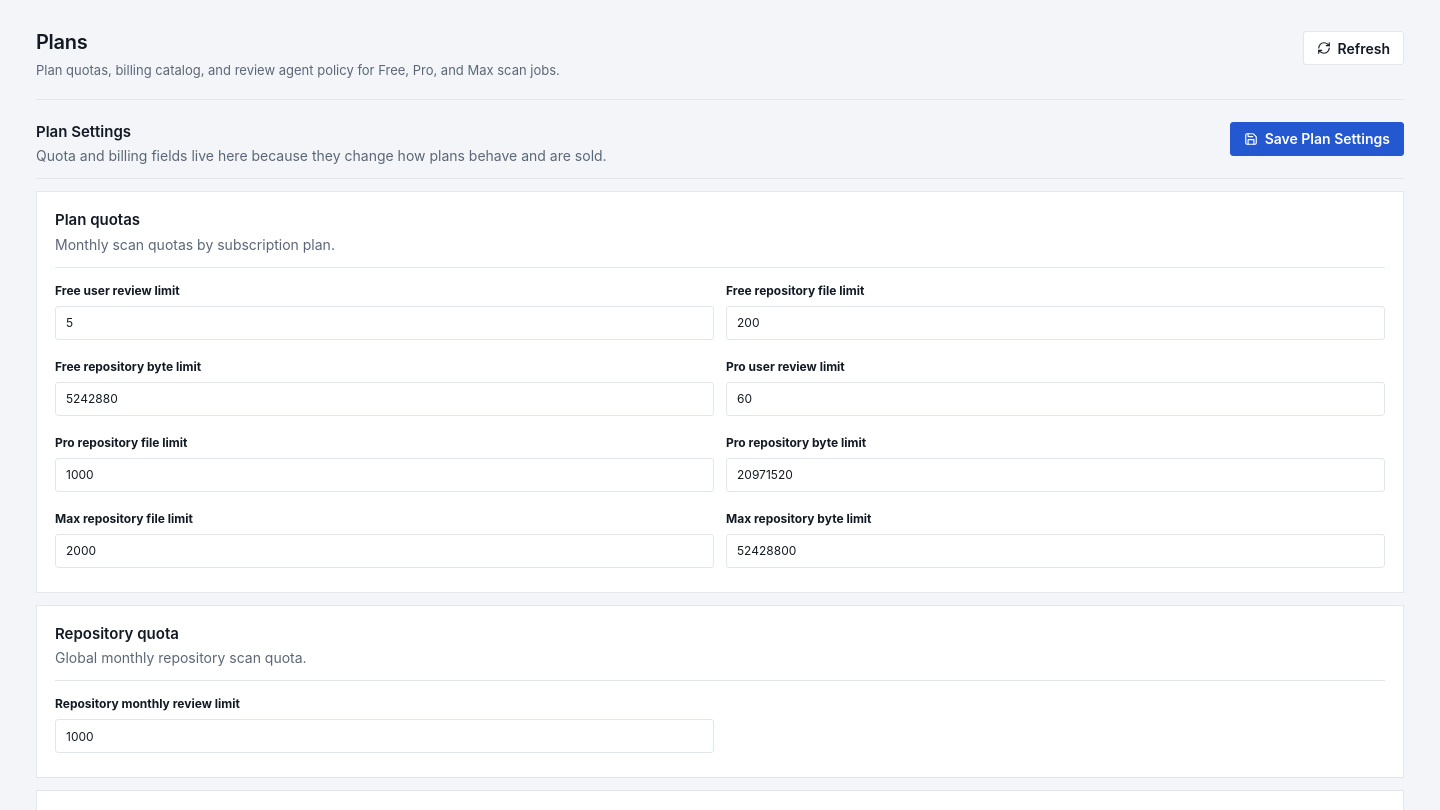
Scenario: PlansScreen › shows plan quotas and billing catalog from system config and saves them
The width and height of the screenshot is (1440, 810).
Check: the heading "Plan Settings" is shown, box [36,122,131,140]
Check: the heading "Plan quotas" is shown, box [55,210,140,229]
Replace the text in the number field labelled "Pro user review limit" with "75": (1056, 398) [726,382,1385,416]
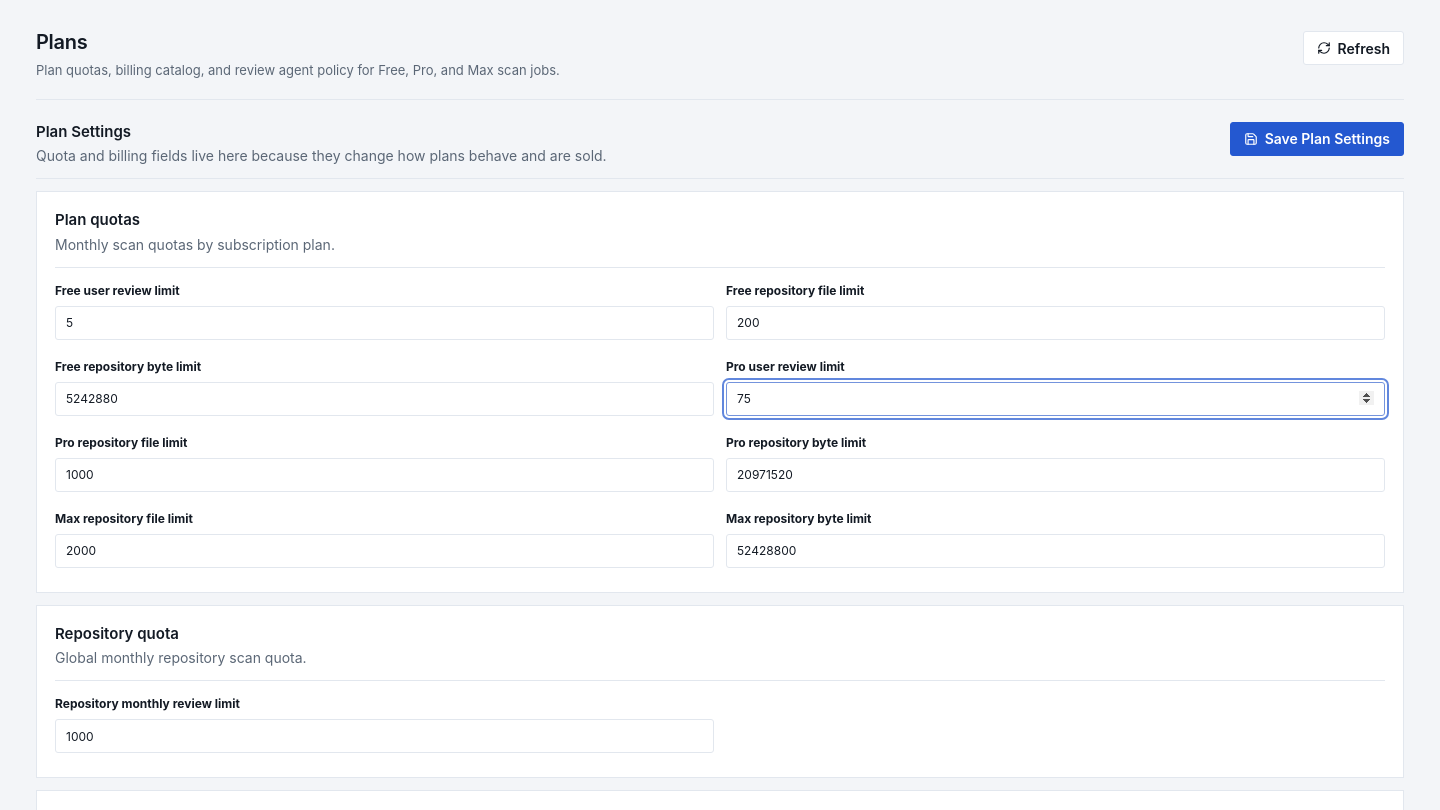
Replace the text in the number field labelled "Pro repository file limit" with "1200": (384, 474) [55,458,714,492]
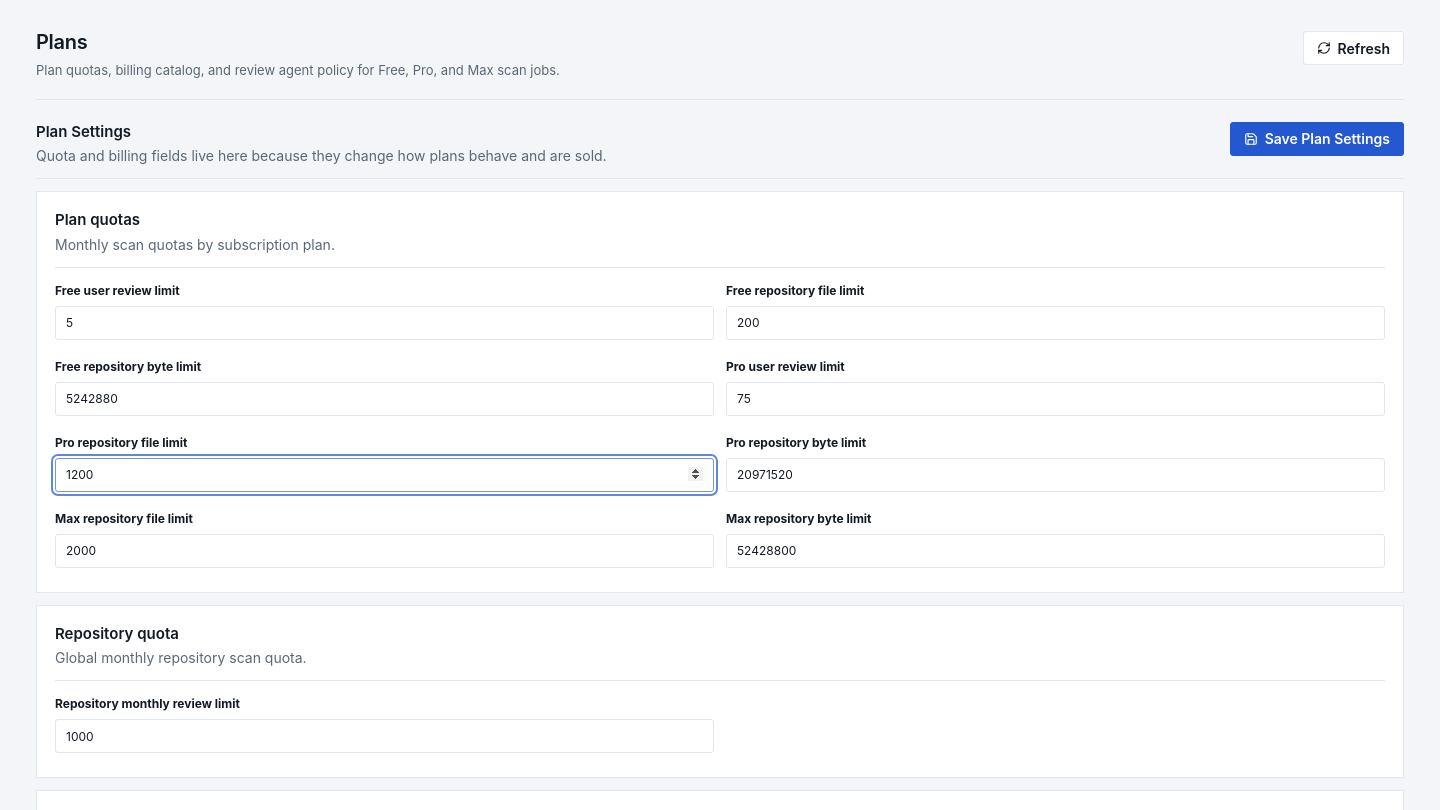
Replace the text in the number field labelled "Repository monthly review limit" with "1500": (384, 736) [55,719,714,753]
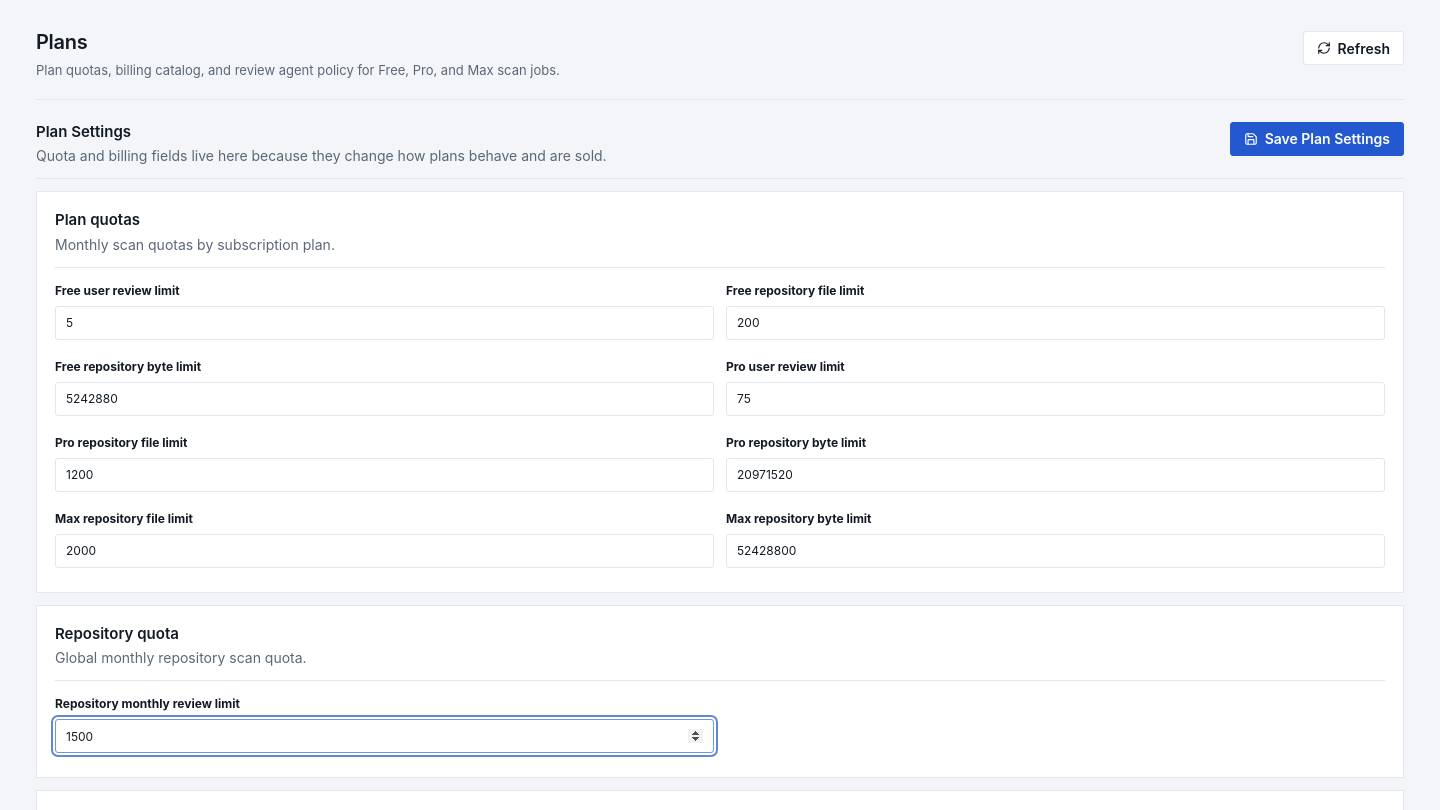
Click the button "Save Plan Settings": click(1317, 138) [1230,122,1404,156]
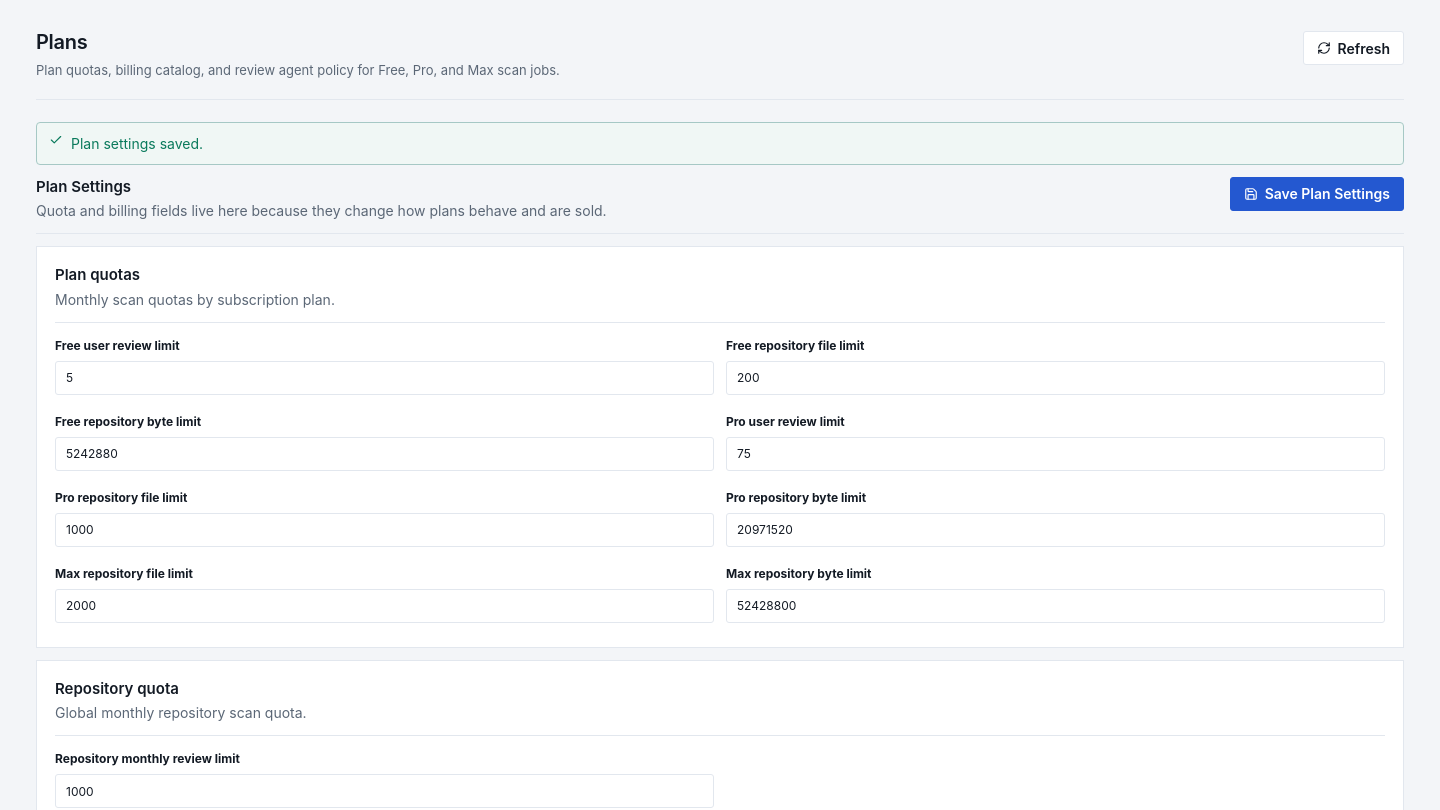
Check: the text "Plan settings saved." is shown, box [36,122,1404,164]
